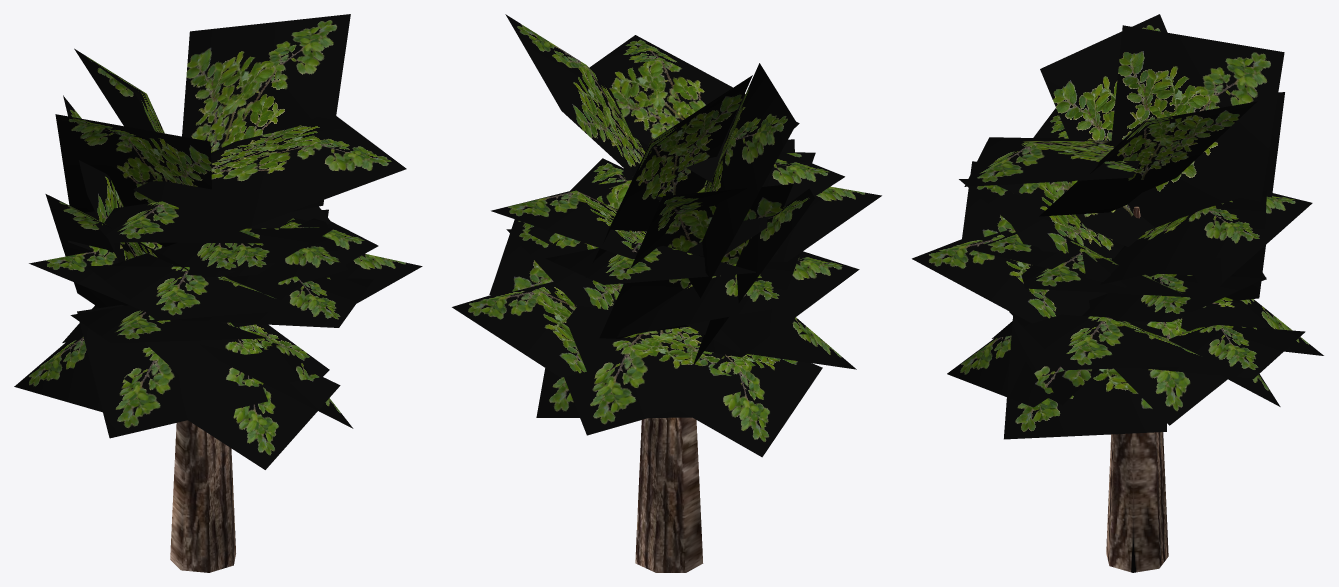
The model's file is baum2big.dae.
3 renders of one model, left to right at view 1: azimuth 30°, elevation 25°; view 2: azimuth 150°, elevation 25°; view 3: azimuth 270°, elevation 25°, orthographic.
Parts seen in each view (by area): view 1: Cylinder_Material.001; view 2: Cylinder_Material.001; view 3: Cylinder_Material.001.
Boxes of the visible parts, bbox=[...] form: Cylinder_Material.001: bbox=[14, 14, 422, 572]; Cylinder_Material.001: bbox=[452, 14, 881, 572]; Cylinder_Material.001: bbox=[912, 14, 1323, 572].
Bounding box in the file's own units: 4.76 × 5.03 × 6.85.
1 material, 1 textured.
